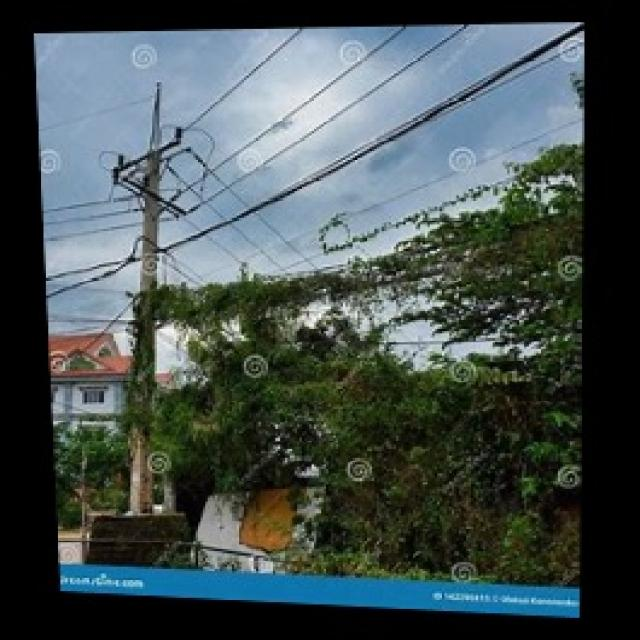critical vegetation: (135, 250, 580, 379)
